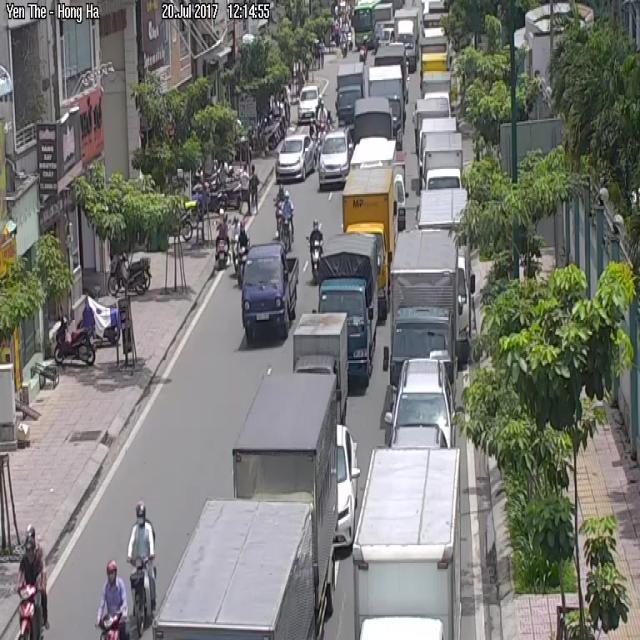car: (128, 501, 156, 639), (18, 526, 47, 639), (96, 560, 128, 639), (53, 317, 94, 366), (309, 221, 322, 280), (215, 215, 228, 268)
traffic-light: (385, 359, 453, 446), (333, 424, 359, 547), (276, 133, 316, 184), (318, 130, 352, 188), (298, 86, 320, 121)
truck: (389, 228, 468, 381), (318, 236, 378, 387), (239, 240, 298, 344), (336, 65, 363, 123)
